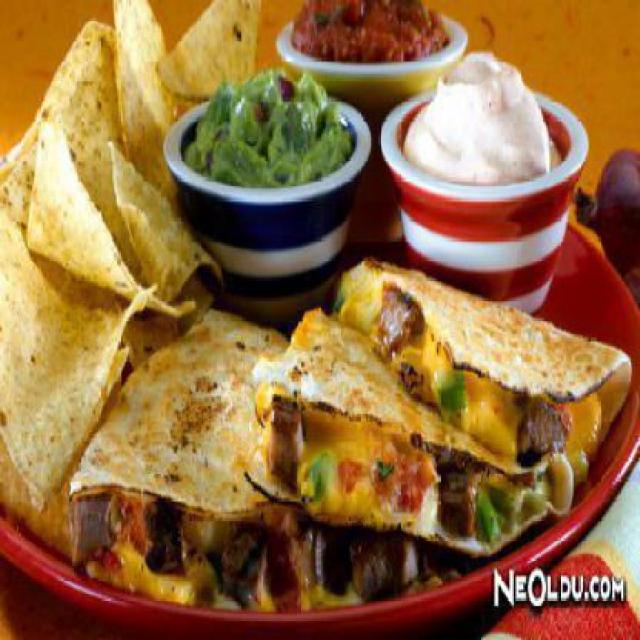chicken quesadilla: (107, 295, 627, 576)
guacamole: (180, 60, 366, 238)
